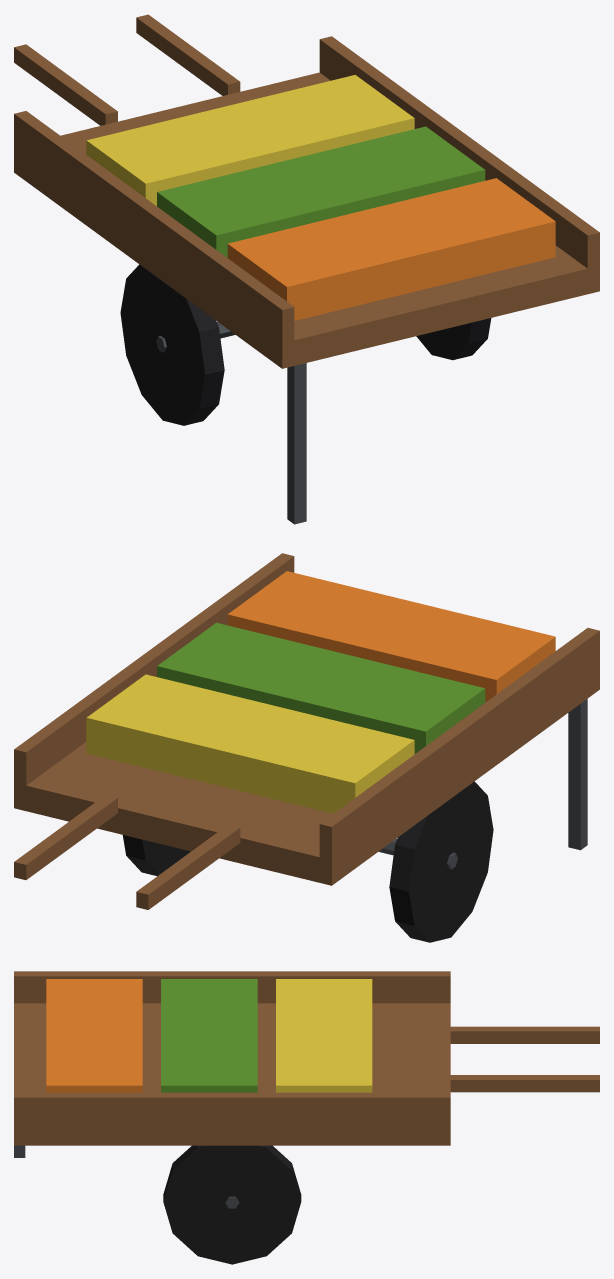
The model's file is prop_handcart.glb.
3 views of the same model, one above another, from view 1: azimuth 30°, elevation 25°; view 2: azimuth 150°, elevation 25°; view 3: azimuth 270°, elevation 25° (orthographic). The views are drawn at different scales.
Parts seen in each view (by area): view 1: prop_handcart; view 2: prop_handcart; view 3: prop_handcart.
Boxes of the visible parts, <box> form: prop_handcart: <box>14,14,599,524</box>; prop_handcart: <box>14,553,599,942</box>; prop_handcart: <box>14,971,599,1264</box>.
Size of what is drawn, in the model's own units: 1.3 by 0.86 by 2.55.
